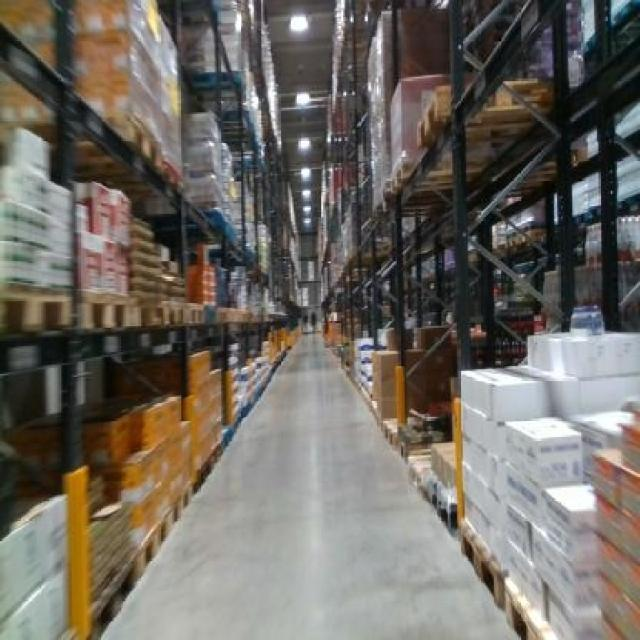pallets: (458, 332, 637, 637)
